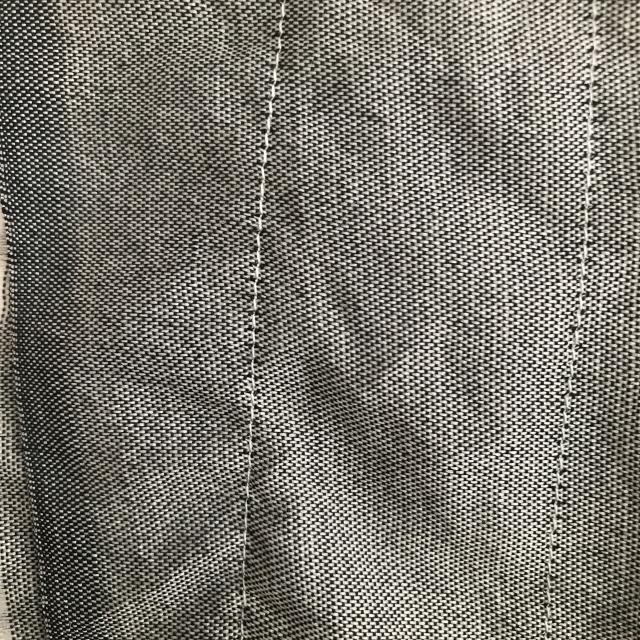good: (227, 249, 273, 466), (240, 74, 292, 213)
